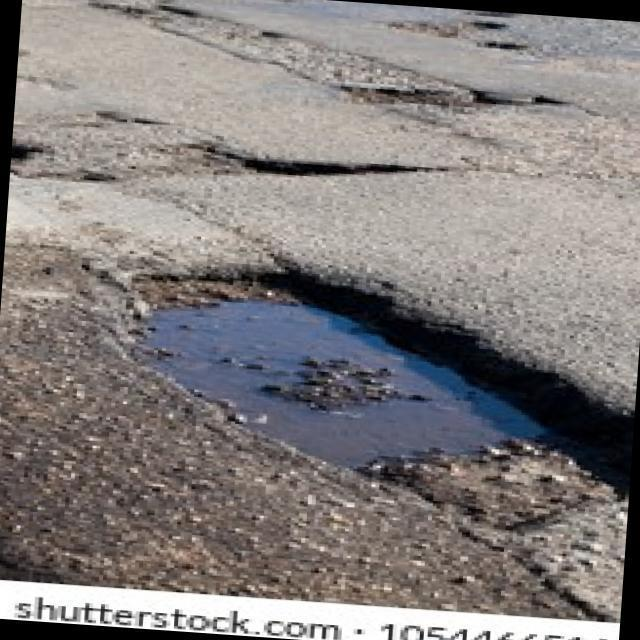pothole: (100, 252, 640, 536), (332, 78, 571, 119), (237, 152, 433, 185), (387, 16, 462, 38), (87, 0, 147, 18), (10, 136, 43, 167), (476, 37, 531, 53), (470, 17, 510, 32), (158, 3, 194, 17), (471, 10, 522, 19), (258, 29, 282, 38)
